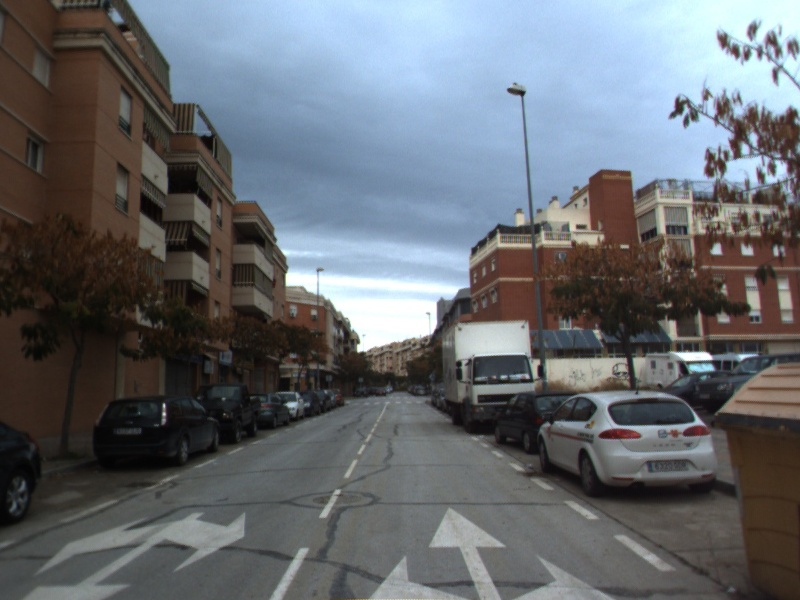STRAIGHT_LEFT_RIGHT: (360, 502, 624, 600)
